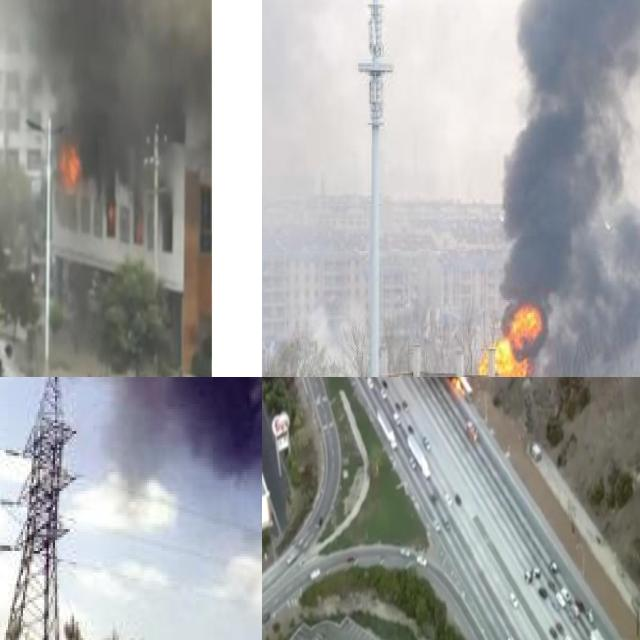fire: (475, 300, 541, 377), (56, 140, 83, 190), (448, 377, 466, 396)
smoke: (501, 0, 640, 377), (77, 377, 262, 640), (0, 0, 210, 174)
